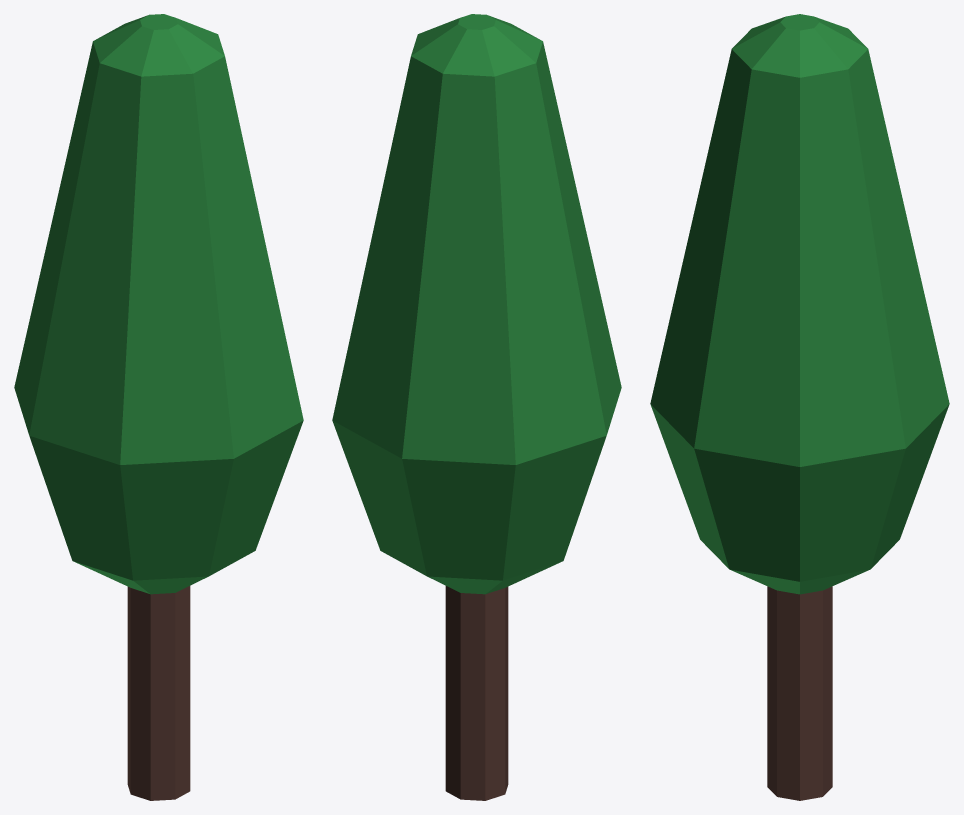
Rendered from tree1.glb.
3 renders of one model, left to right at view 1: azimuth 30°, elevation 25°; view 2: azimuth 150°, elevation 25°; view 3: azimuth 270°, elevation 25°, orthographic.
Parts seen in each view (by area): view 1: tree1; view 2: tree1; view 3: tree1.
Boxes of the visible parts, x1,y1,x2,y2 form: tree1: (14,14,303,800); tree1: (332,14,621,800); tree1: (650,14,949,800).
Bounding box in the file's own units: 1.99 × 5.61 × 1.99.
